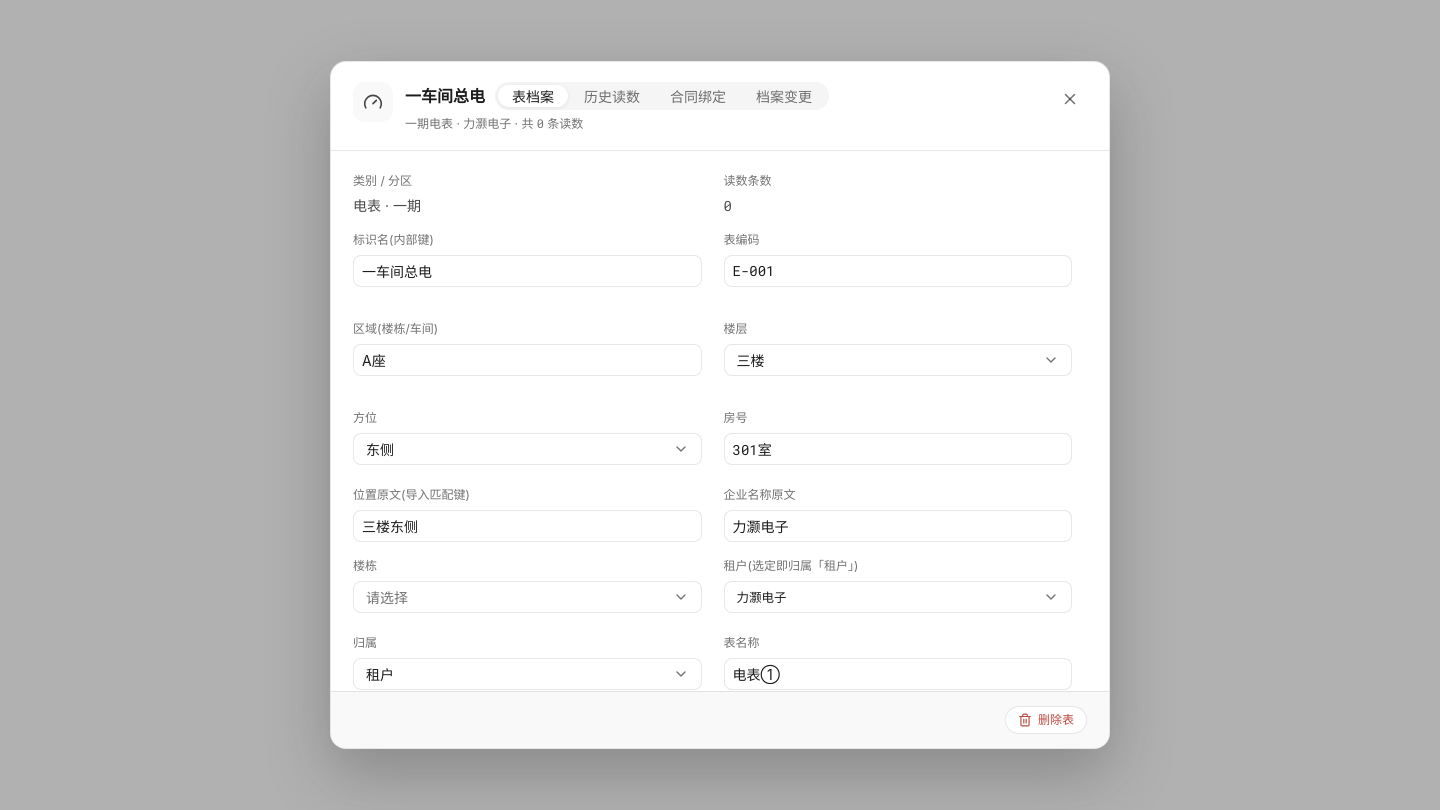
删除表确认框 › 里面有已作废的单:勾选项写「草稿/已作废」,与列表一致
The width and height of the screenshot is (1440, 810).
Click the button "删除表" at [1046, 720], box top-left (1005, 706), bottom-right (1087, 734)
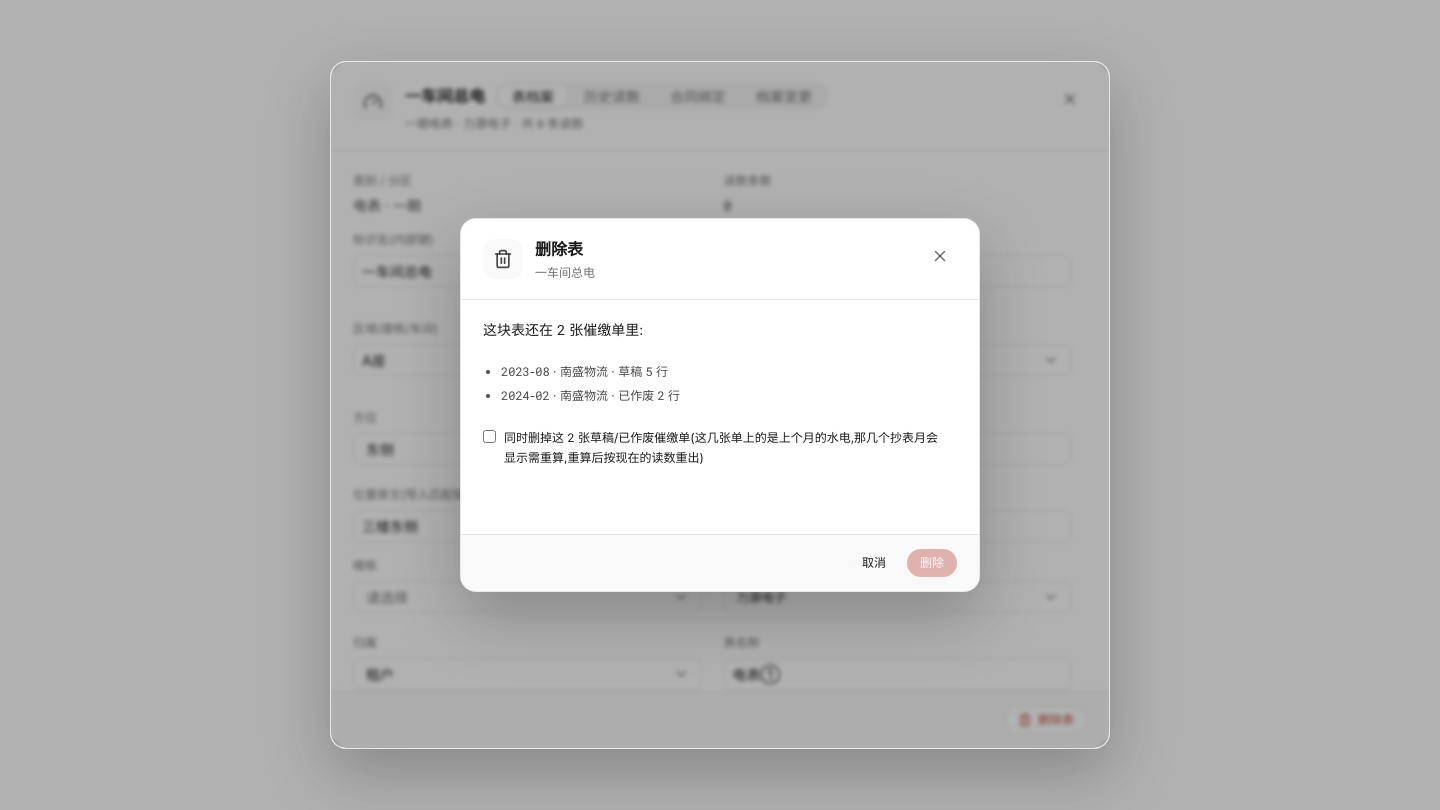
Expected: the list item "2024-02 · 南盛物流 · 已作废 2 行" is shown, top-left (501, 388), bottom-right (680, 403)
Expected: the label with class "dd-ck" shows "同时删掉这 2 张草稿/已作废催缴单(", top-left (504, 430), bottom-right (938, 465)
